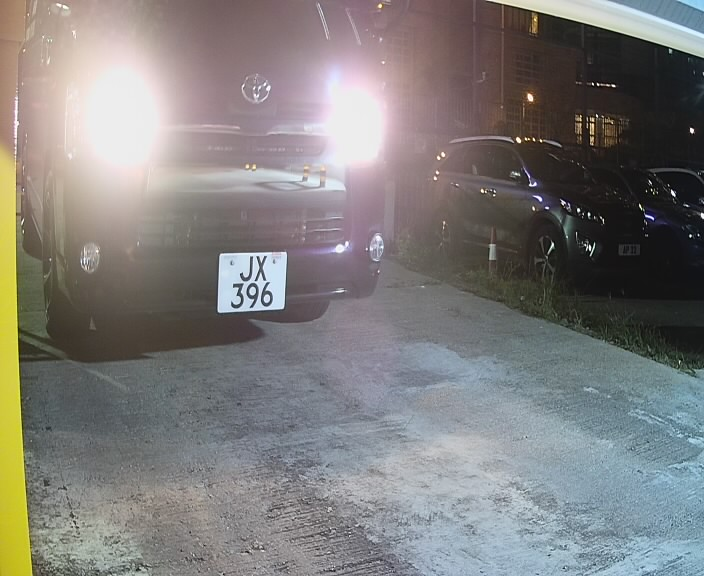Car: (21, 6, 393, 352)
License Plate: (209, 244, 294, 323)
